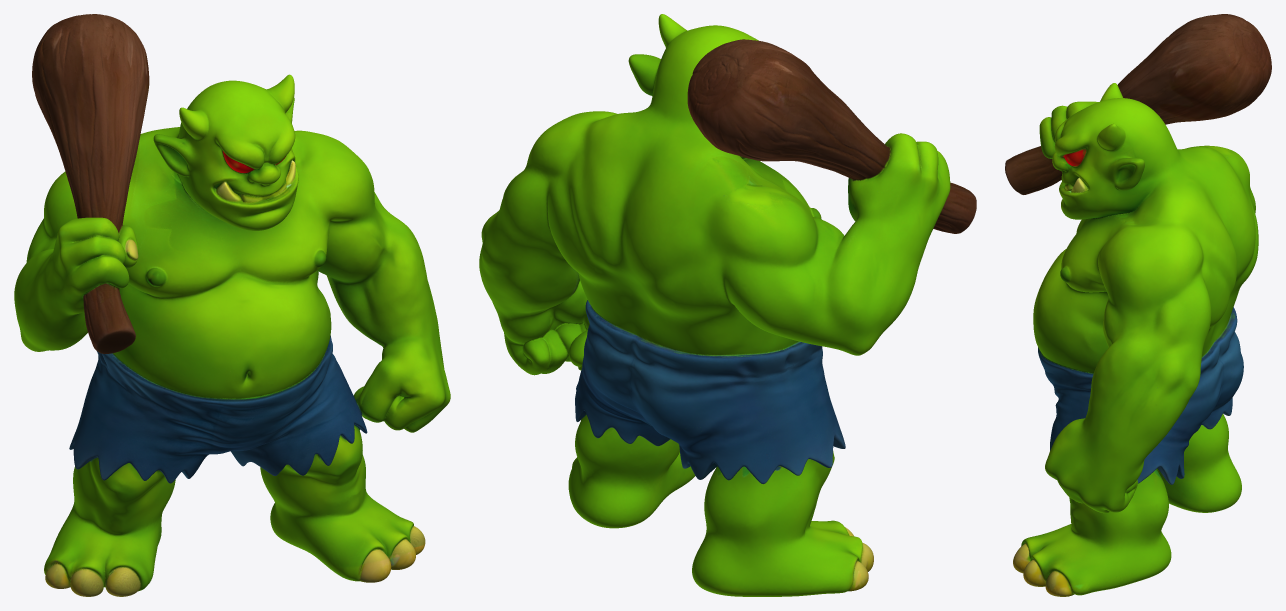
The model's file is 3d_clubbo.glb.
The picture shows the model from 3 angles, left to right: view 1: azimuth 30°, elevation 25°; view 2: azimuth 150°, elevation 25°; view 3: azimuth 270°, elevation 25°; orthographic projection. The views are drawn at different scales.
Bounding box in the file's own units: 1.5 × 1.9 × 0.9716.
1 material, 1 textured.
